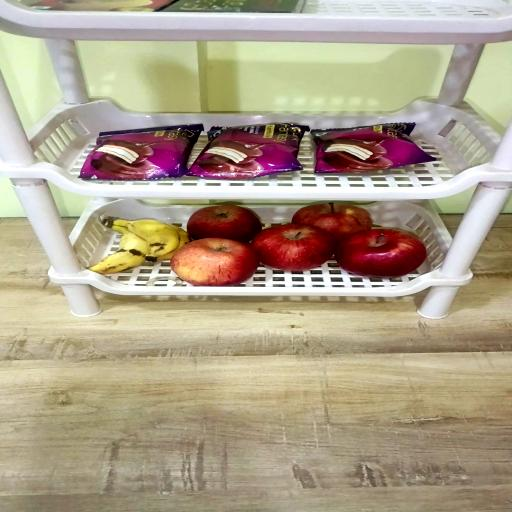Apple: (335, 230, 427, 278), (172, 240, 262, 288), (254, 225, 338, 272), (292, 202, 373, 240), (189, 206, 263, 245)
Choco Fills: (165, 0, 312, 13), (24, 0, 181, 12)
Choco Pie: (78, 124, 202, 180), (190, 122, 310, 178), (310, 122, 436, 172)
